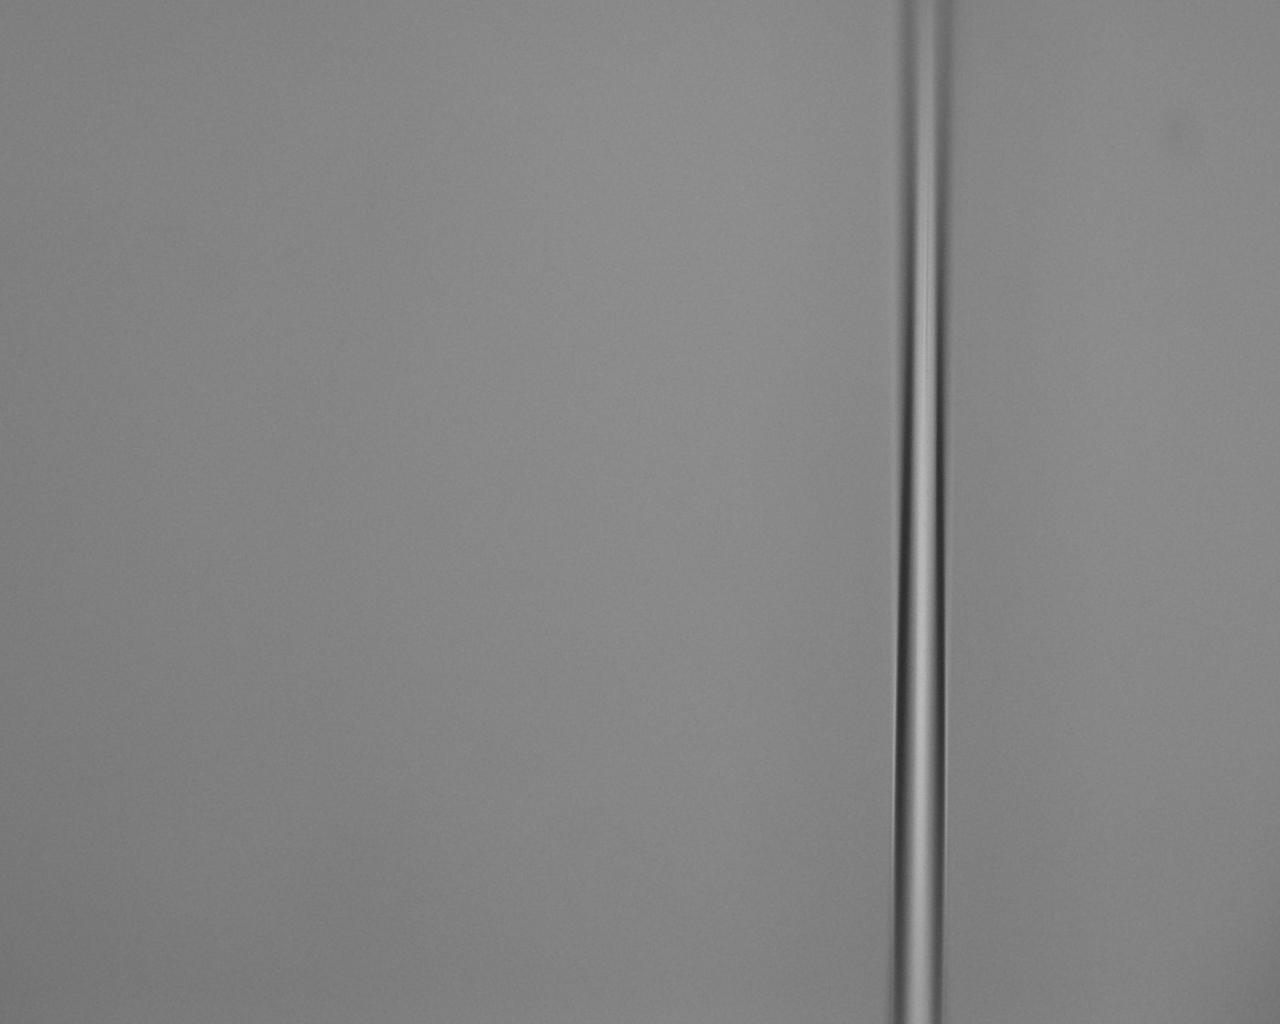fiber: (755, 348, 1228, 1024), (0, 348, 158, 1024), (470, 0, 487, 348)
